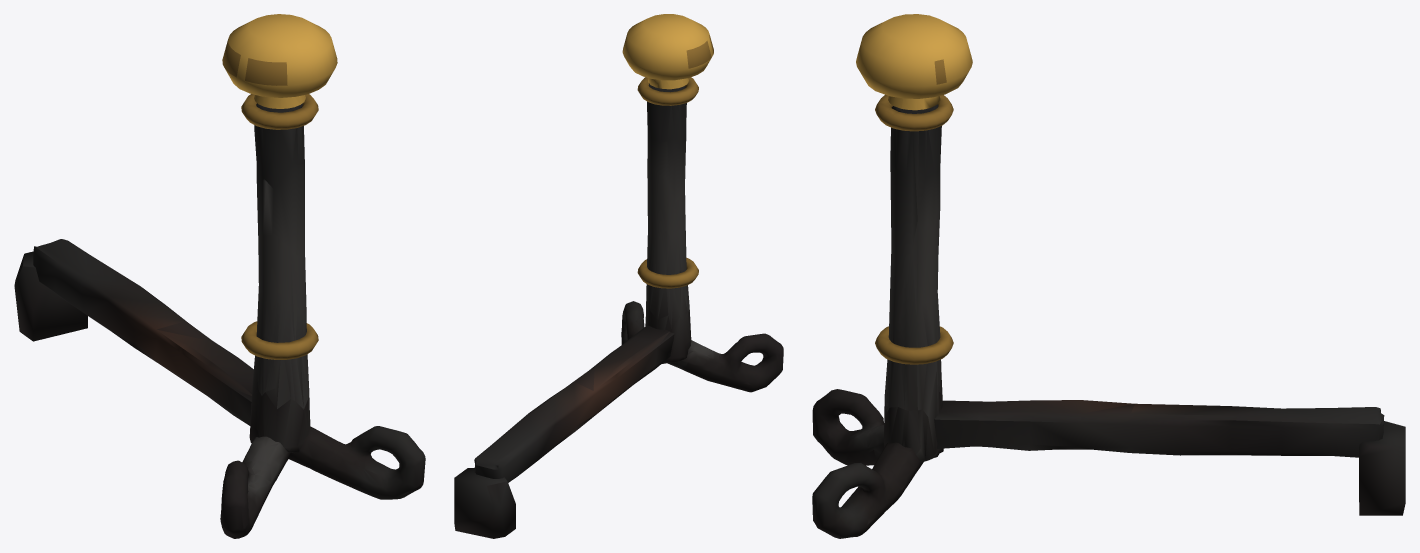
Rendered from ember_firedog_lod1.glb.
3 views of the same model, side by side, from view 1: azimuth 30°, elevation 25°; view 2: azimuth 150°, elevation 25°; view 3: azimuth 270°, elevation 25° (orthographic). The views are drawn at different scales.
Parts seen in each view (by area): view 1: ember_firedog.001; view 2: ember_firedog.001; view 3: ember_firedog.001.
Boxes of the visible parts, x1,y1,x2,y2 form: ember_firedog.001: [14, 14, 425, 538]; ember_firedog.001: [454, 14, 783, 538]; ember_firedog.001: [812, 14, 1405, 538].
Bounding box in the file's own units: 8.02 × 18 × 20.29.
